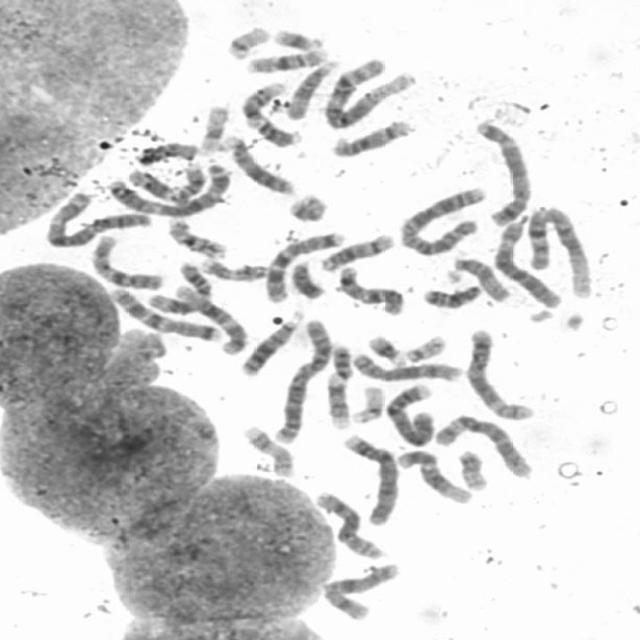A1: (320, 54, 418, 131), (536, 203, 594, 299)
A2: (268, 314, 333, 444), (396, 181, 491, 257)
A3: (101, 158, 232, 218), (41, 187, 155, 249)
B4: (338, 430, 403, 527), (381, 379, 437, 447)
B5: (469, 116, 535, 227), (462, 324, 537, 421)
C10: (86, 230, 168, 292), (334, 261, 408, 317)
C11: (114, 156, 218, 216), (145, 256, 214, 316)
C12: (170, 282, 250, 356), (394, 445, 474, 505)
C6: (430, 410, 536, 480), (490, 215, 566, 308)
C7: (106, 283, 222, 343), (260, 226, 348, 304)
C8: (310, 486, 386, 561), (348, 349, 464, 383)
C9: (237, 76, 303, 148), (322, 340, 353, 431)
D13: (216, 131, 298, 196), (236, 307, 307, 377)
D14: (327, 115, 416, 158), (316, 229, 396, 272)
D15: (281, 56, 340, 122), (448, 251, 515, 304)
E16: (162, 214, 228, 260), (240, 44, 331, 74)
E17: (240, 421, 296, 478), (196, 253, 270, 283)
E18: (418, 280, 484, 310), (135, 138, 201, 164)
F19: (195, 100, 232, 156), (348, 381, 386, 425)
F20: (454, 446, 491, 492), (284, 190, 330, 224)
G21: (363, 330, 412, 367), (268, 23, 327, 52)
G22: (222, 21, 272, 61), (398, 331, 448, 364)
X: (317, 558, 403, 622)
Y: (287, 257, 327, 301)
